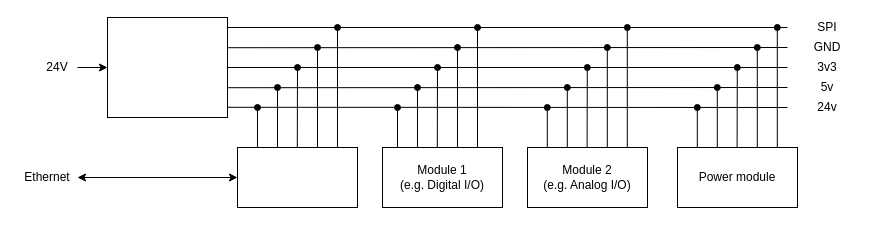
Image size: 874x225. Some labels were removed from this diagram. Each missing label, with the box of its shape:
Backplane: (106, 16, 228, 118)
Raspberry Pi: (236, 146, 358, 208)
